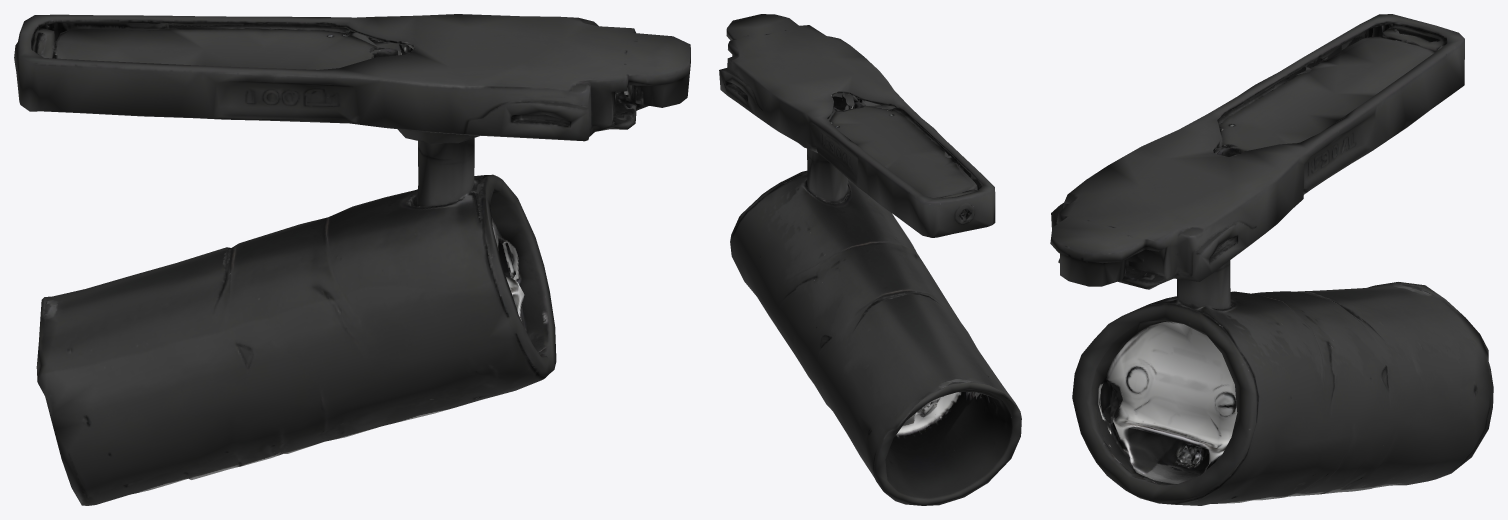
The model's file is luminaria2.obj.
The picture shows the model from 3 angles, left to right: view 1: azimuth 30°, elevation 25°; view 2: azimuth 150°, elevation 25°; view 3: azimuth 270°, elevation 25°; orthographic projection. The views are drawn at different scales.
Parts seen in each view (by area): view 1: luminaria2; view 2: luminaria2; view 3: luminaria2.
Boxes of the visible parts, x1,y1,x2,y2 form: luminaria2: [14, 14, 690, 505]; luminaria2: [719, 14, 1021, 505]; luminaria2: [1050, 14, 1493, 505].
Bounding box in the file's own units: 1.93 × 1.61 × 1.49.
1 material, 1 textured.
